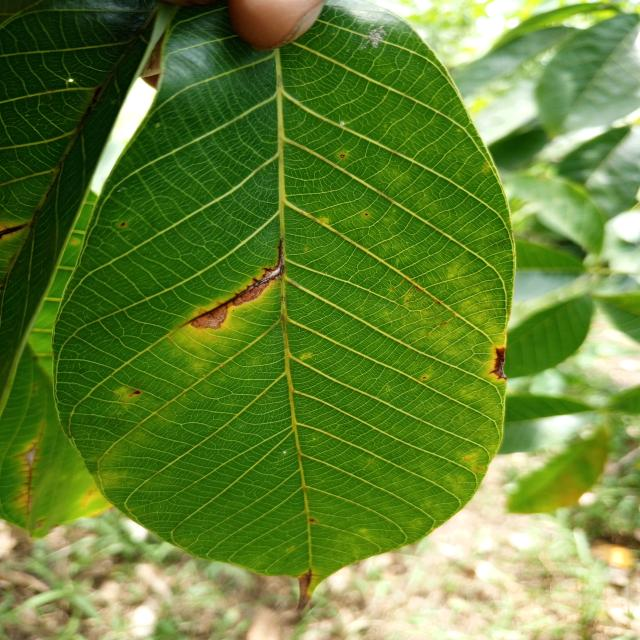Colletotrichum: (340, 154, 345, 158), (364, 213, 368, 216)
Corynespora: (183, 239, 285, 325), (9, 426, 45, 518), (488, 348, 510, 380), (0, 224, 29, 236)
Leaf-Blight: (296, 574, 312, 614)
